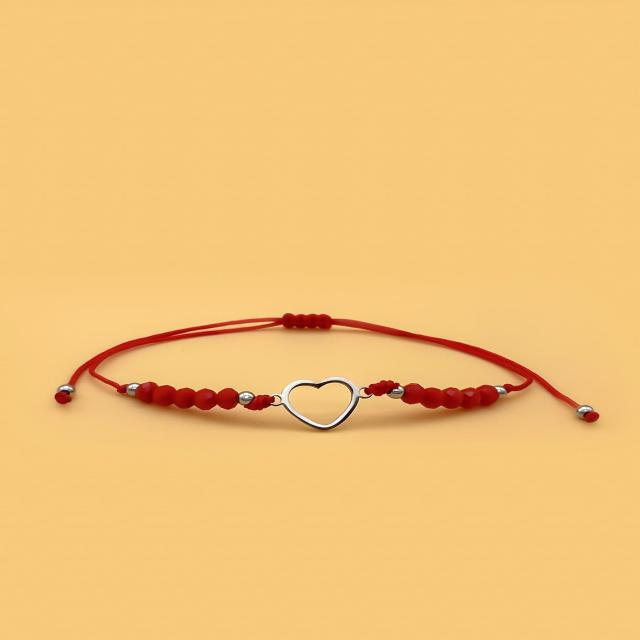bracelet: (0, 226, 640, 502)
